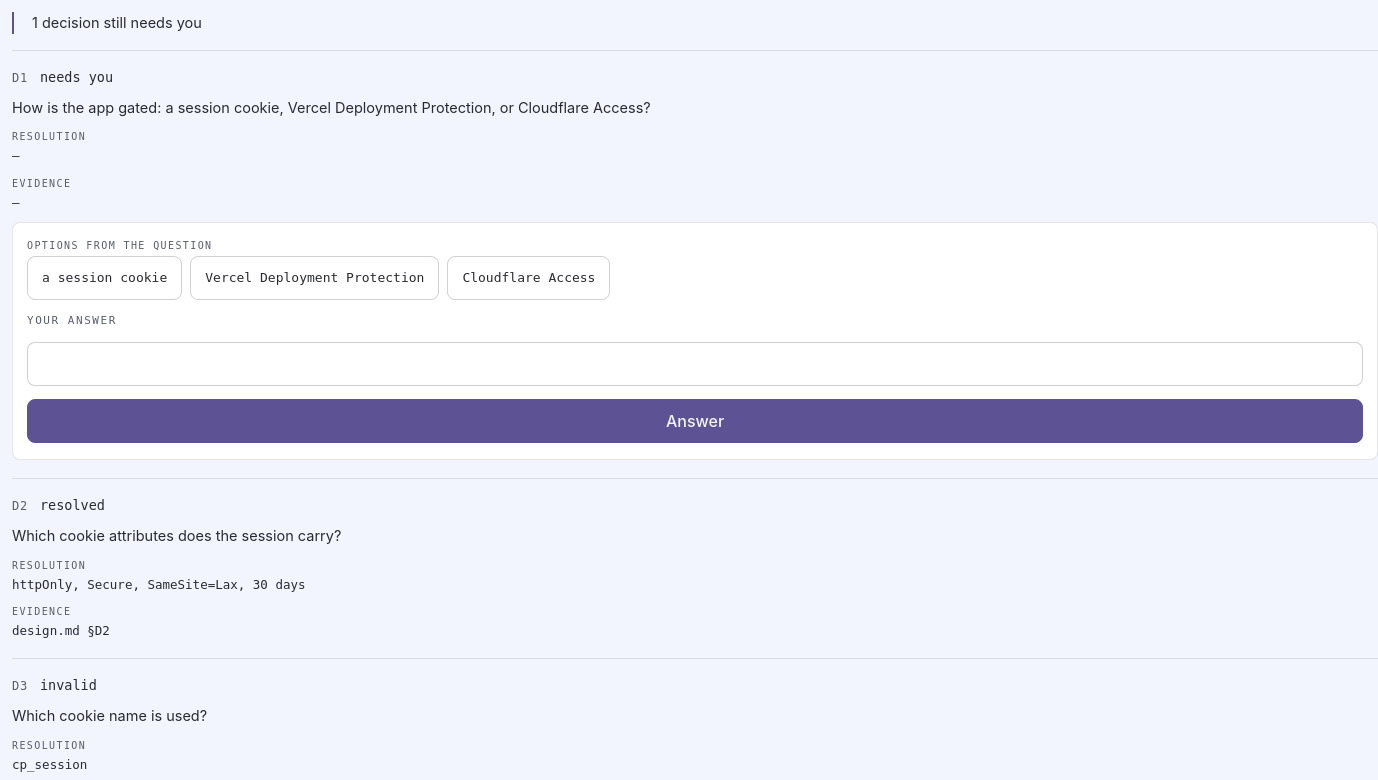
Test: LedgerPanel › re-renders the answered row as resolved and moves focus to the result message
Click the button "a session cookie": x=105, y=278 [27, 256, 182, 300]
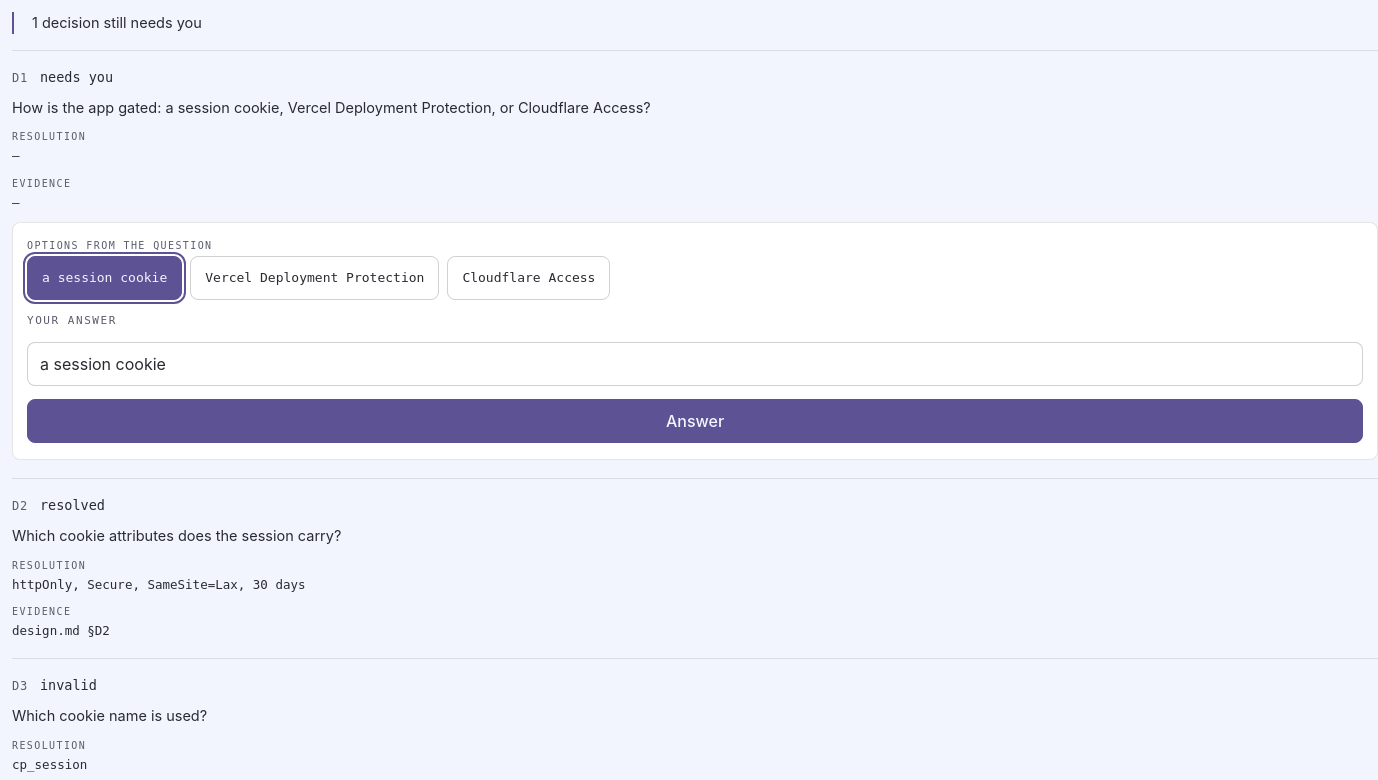
Click the button "Answer": x=695, y=421 [27, 399, 1363, 443]
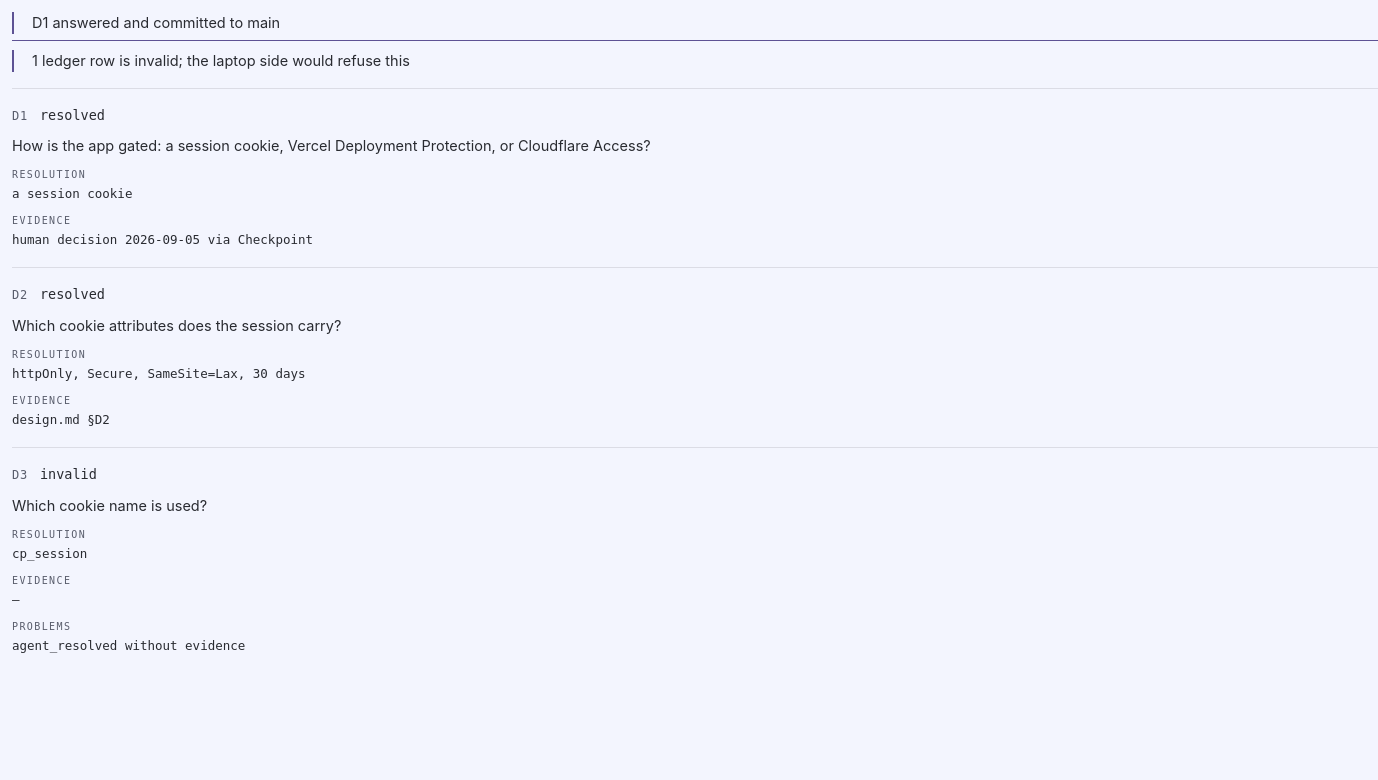
Check: the 1st text "resolved" is shown, box [40, 104, 105, 125]
Check: the text "a session cookie" is shown, box [12, 186, 132, 201]
Check: the text "human decision 2026-09-05 via Checkpoint" is shown, box [12, 232, 313, 247]
